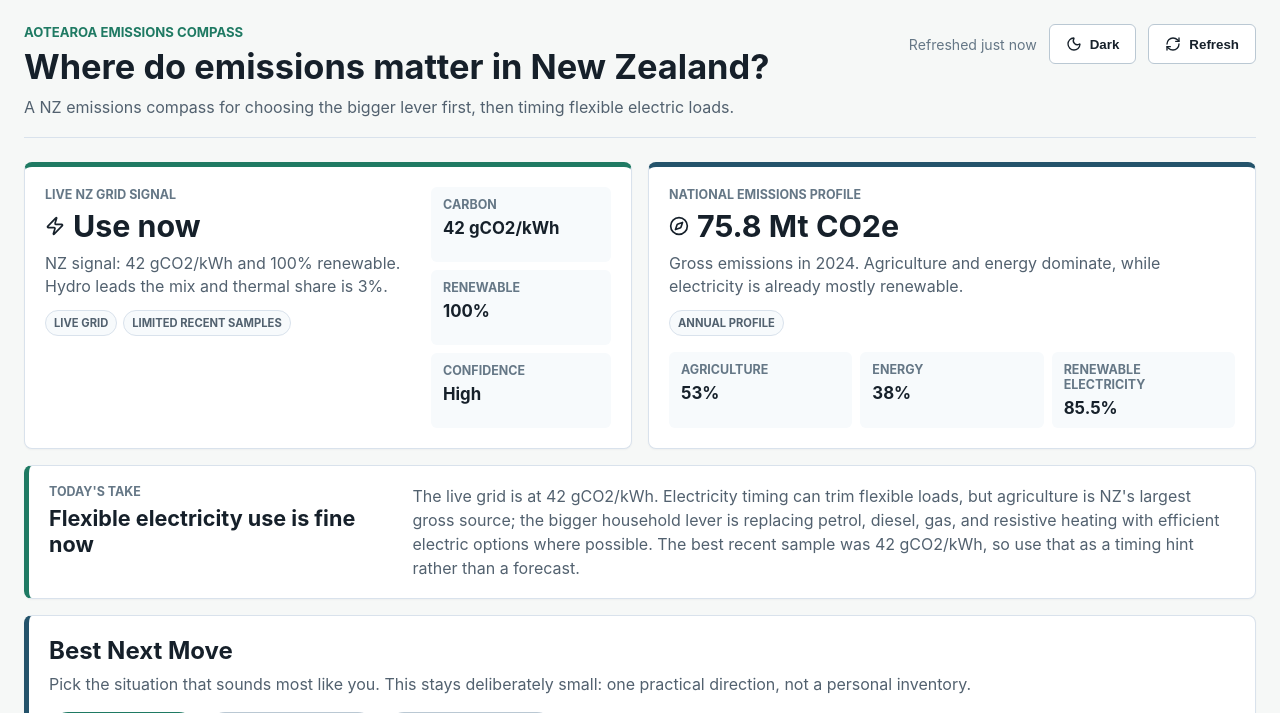
toggles and persists the dashboard theme
Expected: the heading "Where do emissions matter in New Zealand?" is shown, [24, 48, 769, 86]
Click the button with aria-label "Switch to dark mode" at (1092, 44), box [1049, 24, 1136, 64]
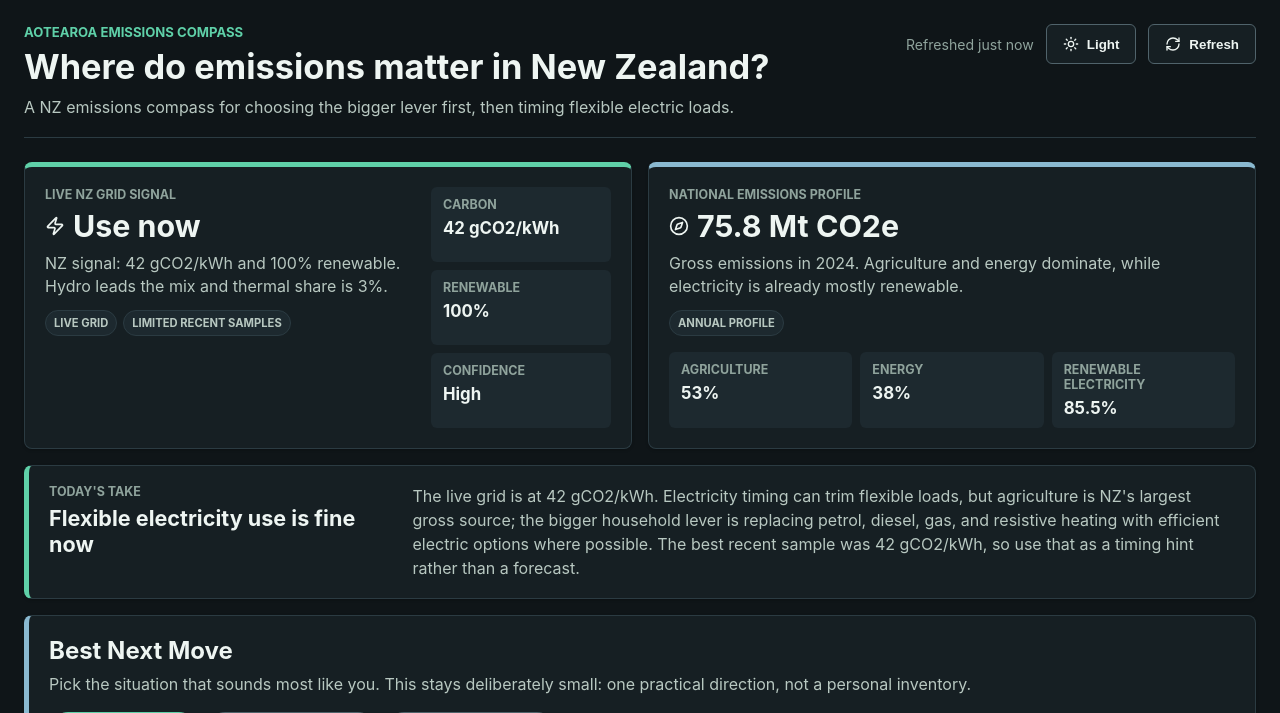
Result: the button with aria-label "Switch to light mode" is shown at [1046, 24, 1136, 64]
